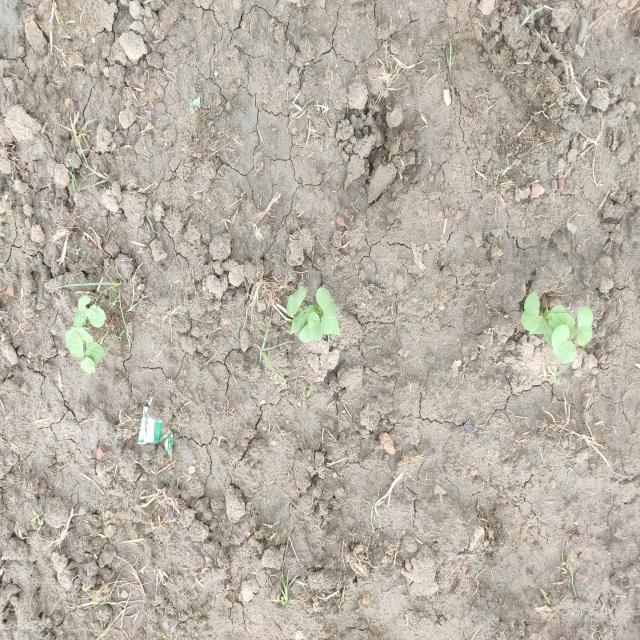seedling_s4: (551, 325, 577, 363), (78, 296, 106, 328), (522, 293, 540, 331), (577, 307, 593, 347), (317, 287, 337, 318), (287, 287, 306, 316), (66, 330, 84, 358), (320, 316, 342, 336), (550, 313, 575, 330), (308, 312, 323, 340), (86, 341, 104, 364), (289, 311, 306, 334), (71, 327, 92, 343), (530, 316, 548, 334), (72, 310, 87, 328), (299, 325, 313, 342), (81, 358, 95, 374)
